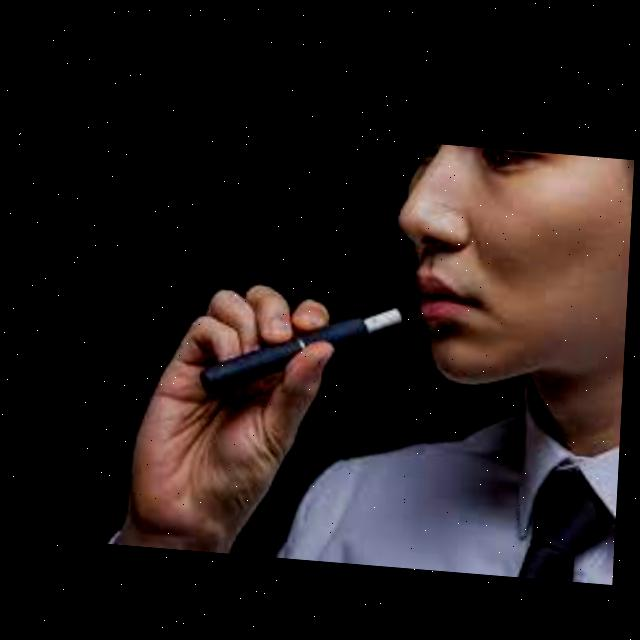vape: (206, 287, 408, 402)
